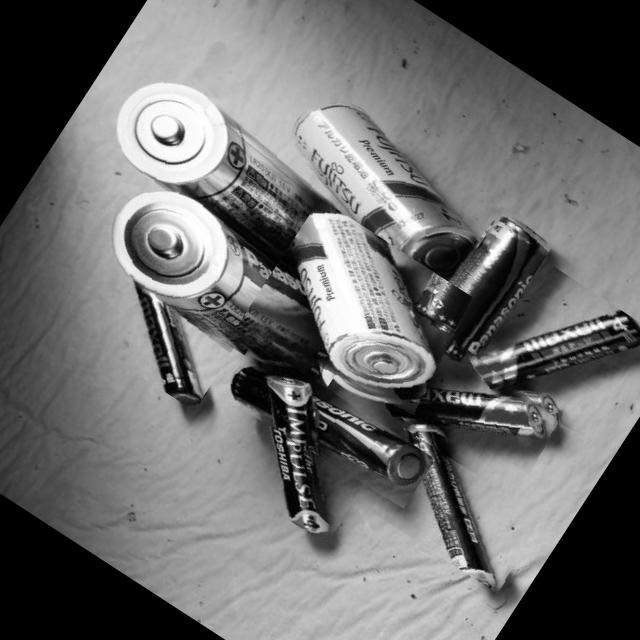Hazard: (88, 161, 377, 402), (96, 58, 372, 286), (238, 197, 484, 430), (258, 79, 508, 297), (355, 402, 562, 593), (214, 337, 436, 512), (373, 320, 572, 500), (204, 360, 394, 544), (466, 255, 640, 441), (404, 198, 556, 374), (87, 270, 240, 410)
